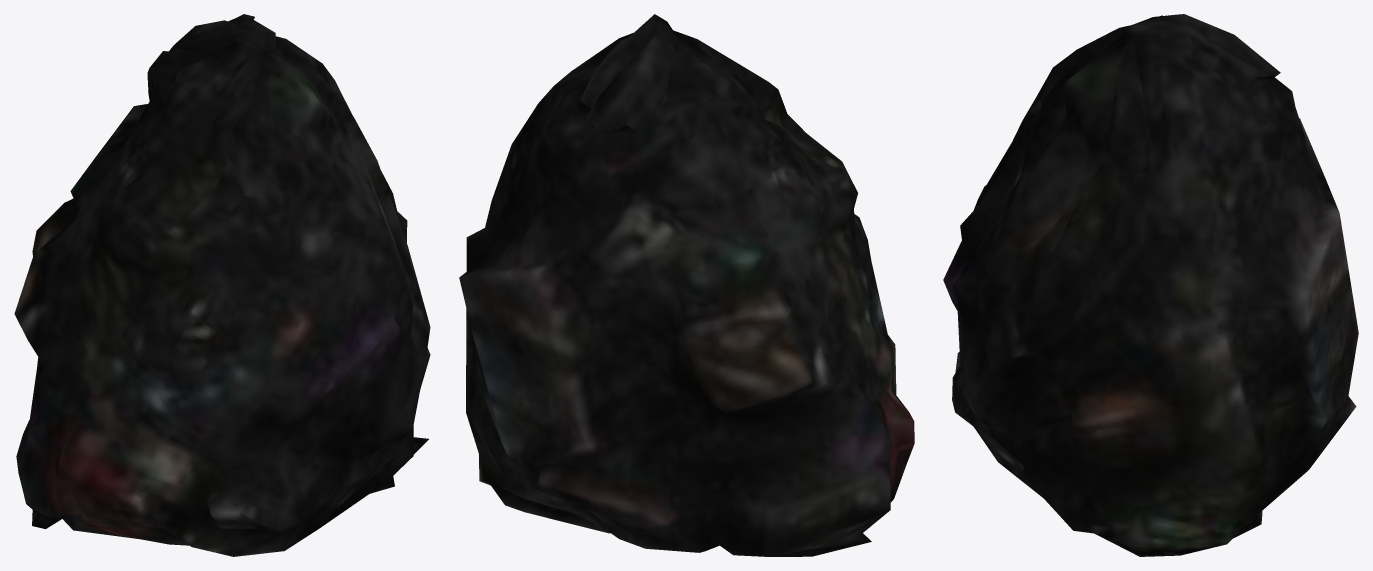
Rendered from trashbag.glb.
3 renders of one model, left to right at view 1: azimuth 30°, elevation 25°; view 2: azimuth 150°, elevation 25°; view 3: azimuth 270°, elevation 25°, orthographic. The views are drawn at different scales.
Visible parts, largest first — view 1: trashbag; view 2: trashbag; view 3: trashbag.
Boxes of the visible parts, x1,y1,x2,y2 form: trashbag: (14,14,430,556); trashbag: (459,14,914,556); trashbag: (943,14,1358,556).
Bounding box in the file's own units: 0.5236 × 0.5684 × 0.4629.
Materials: 1 (1 with a texture image).
